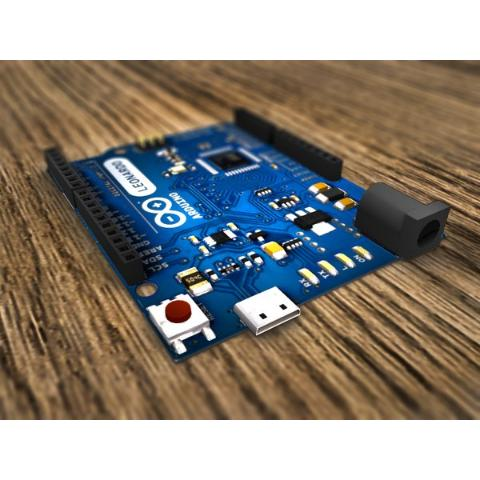Arduino-Leonardo: (34, 106, 454, 366)
